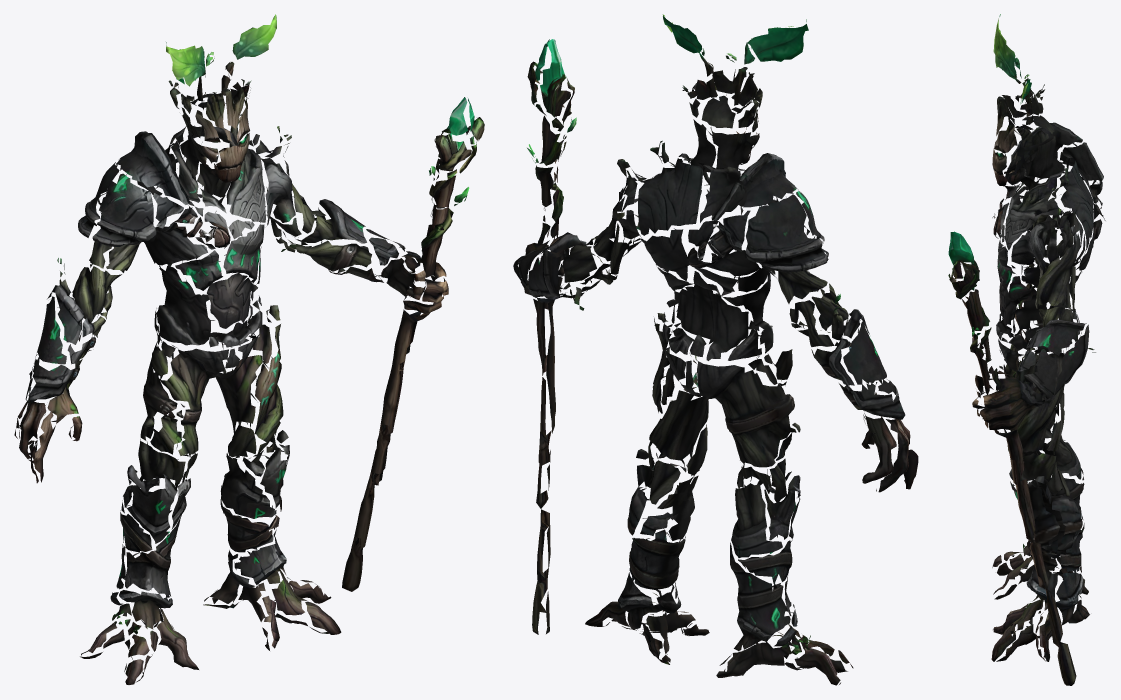
Rendered from hero_stage1.glb.
3 renders of one model, left to right at view 1: azimuth 30°, elevation 25°; view 2: azimuth 150°, elevation 25°; view 3: azimuth 270°, elevation 25°, orthographic. The views are drawn at different scales.
Visible parts, largest first — view 1: fantasy_treant_3d_model; view 2: fantasy_treant_3d_model; view 3: fantasy_treant_3d_model.
Boxes of the visible parts, x1,y1,x2,y2 form: fantasy_treant_3d_model: (14, 14, 484, 684); fantasy_treant_3d_model: (513, 14, 918, 685); fantasy_treant_3d_model: (948, 14, 1105, 685).
Bounding box in the file's own units: 0.6736 × 0.9769 × 0.2442.
Materials: 1 (1 with a texture image).
